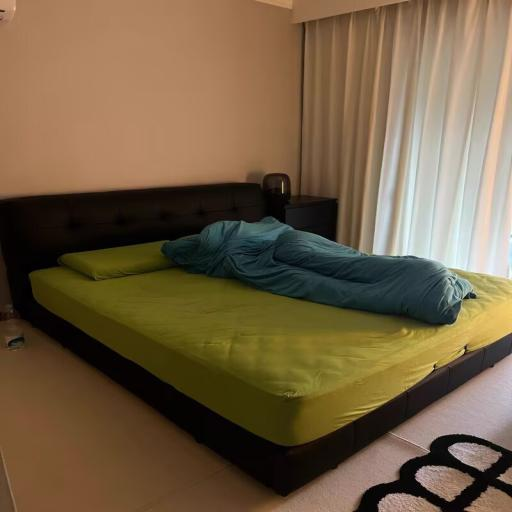person: (0, 184, 512, 495)
